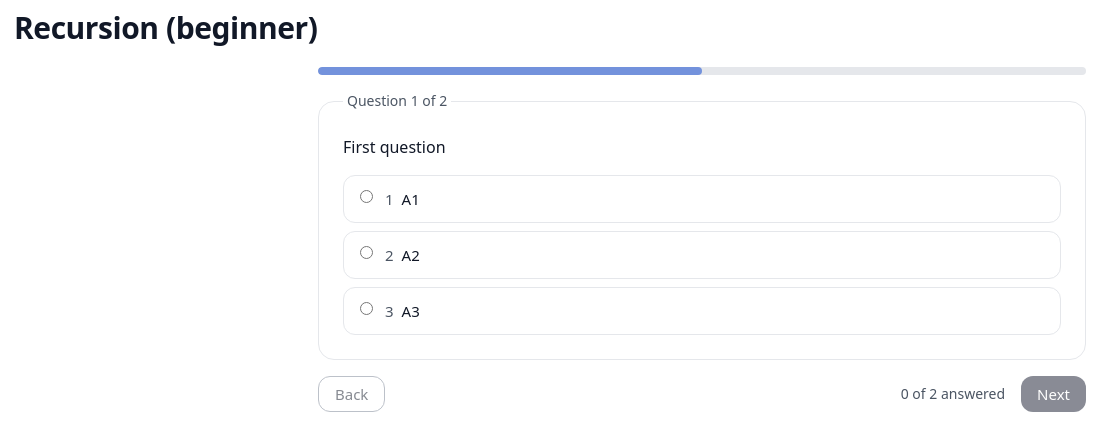
Scenario: QuizRunner › shows one question at a time and keeps Next disabled until an option is chosen
The width and height of the screenshot is (1103, 429).
Expected: the text "First question" is shown, [343,136,446,158]
Expected: the text "Question 1 of 2" is shown, [343,91,451,111]
Click the radio button labelled "A2" at (366, 252), box [360,246,373,259]
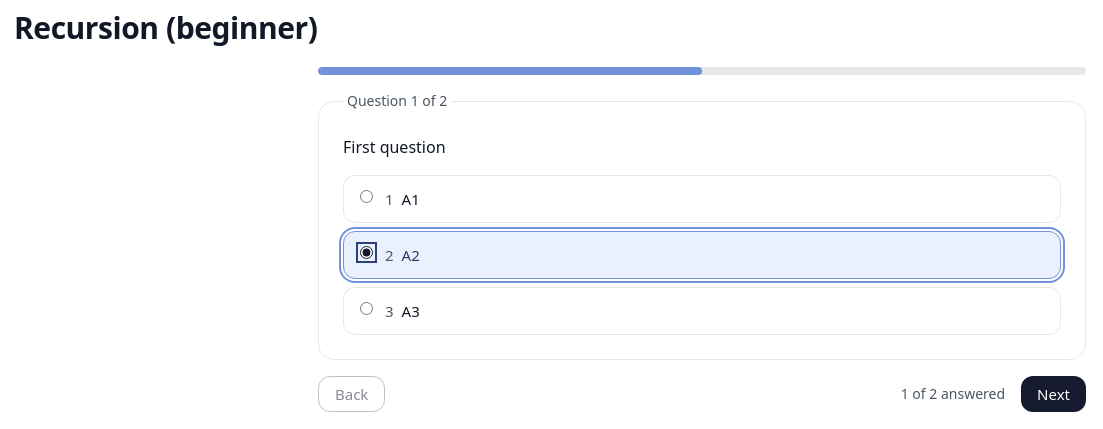
Now the button "Next" is enabled, box [1021,376,1086,412]
